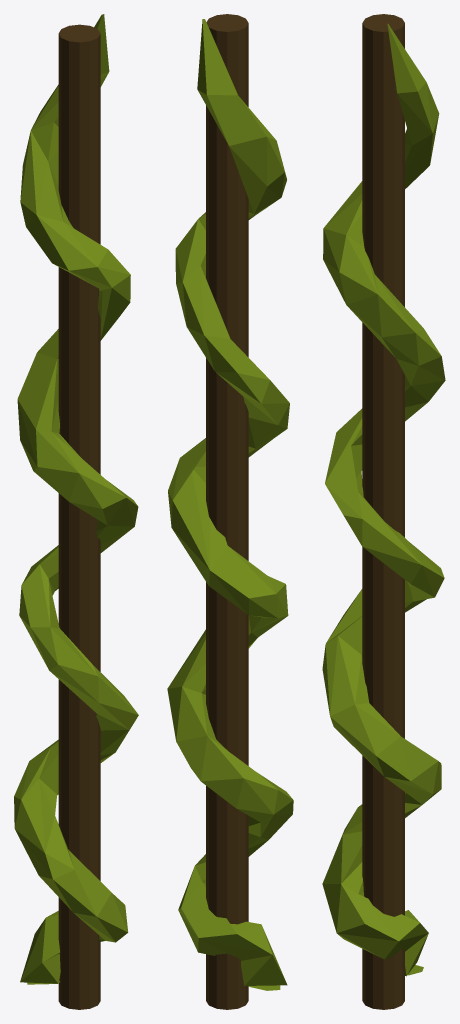
File: plant.fbx
The picture shows the model from 3 angles, left to right: view 1: azimuth 30°, elevation 25°; view 2: azimuth 210°, elevation 25°; view 3: azimuth 270°, elevation 25°; orthographic projection.
Visible parts, largest first — view 1: plant; view 2: plant; view 3: plant.
Boxes of the visible parts, <box> form: plant: <box>14,14,138,1009</box>; plant: <box>167,14,293,1009</box>; plant: <box>322,14,445,1009</box>.
Bounding box in the file's own units: 16.95 × 155 × 17.53.
